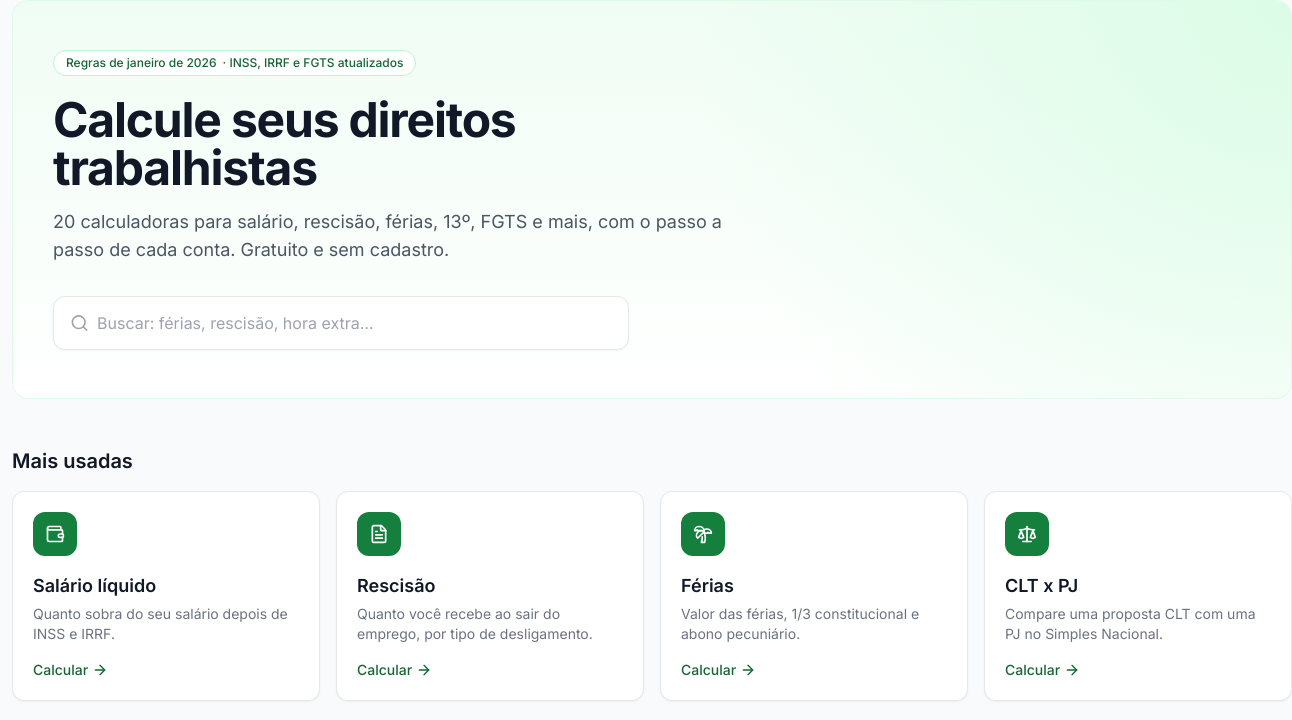
Scenario: CalculatorDirectory › busca ignora acentos e esconde categorias vazias
This screenshot has width=1292, height=720.
Type "ferias" into the search field named "Buscar calculadora" at (354, 323), box [97,297,612,349]
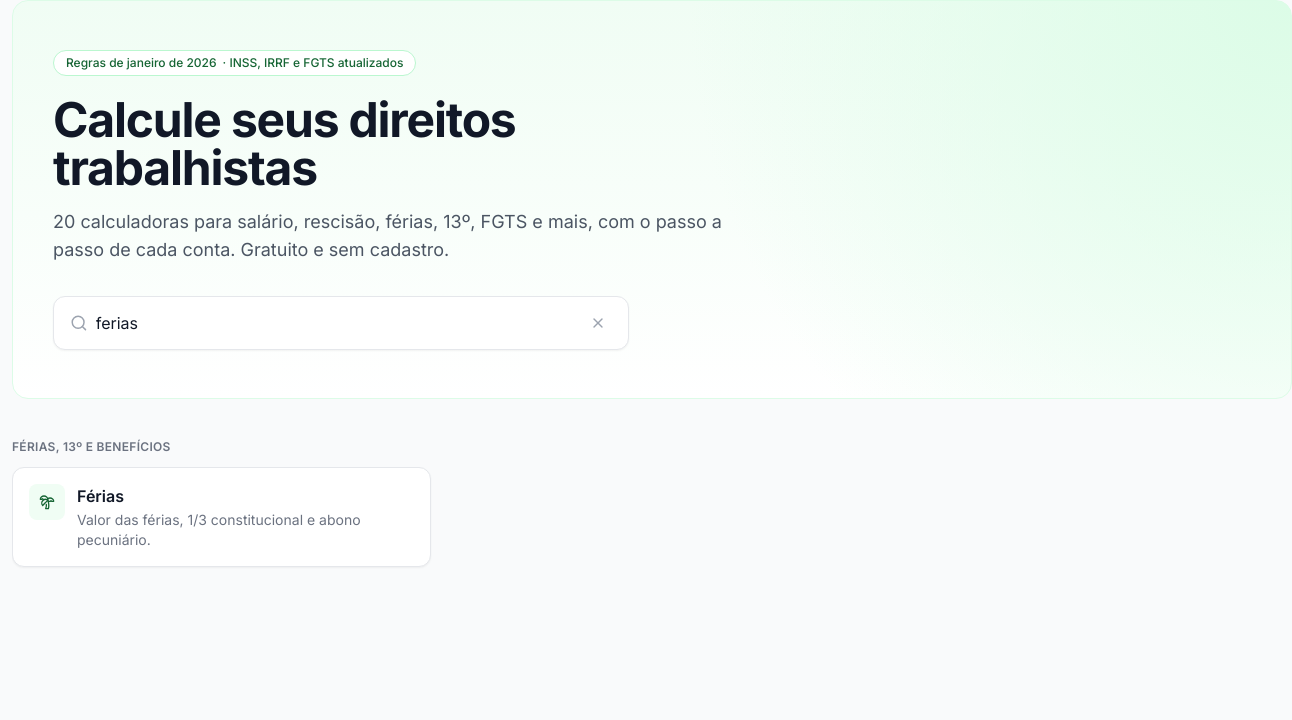
Expected: the heading "Férias" is shown, [77,486,124,506]
Now the link "desligamento" is gone
